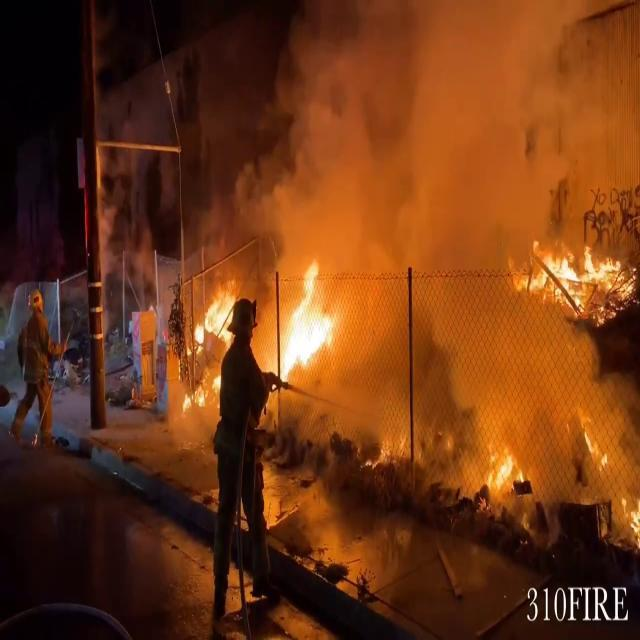Fire: (512, 213, 638, 325), (268, 254, 342, 382), (191, 284, 233, 401), (482, 446, 528, 498)
Smoke: (218, 0, 640, 475)
